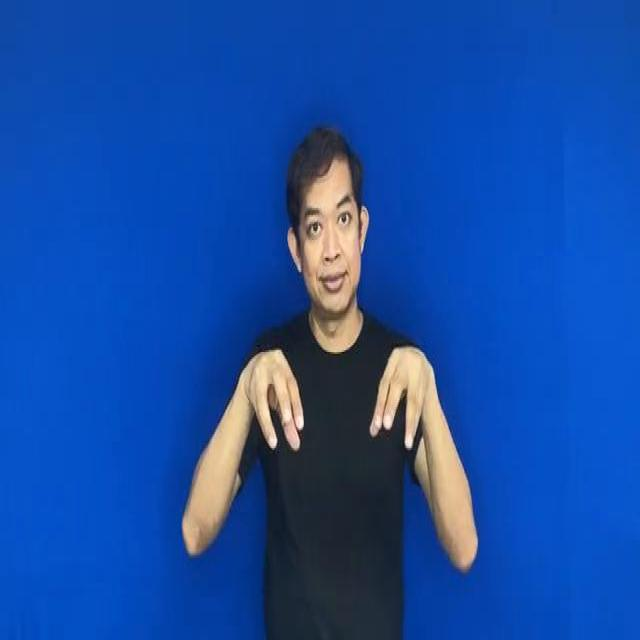egg: (224, 318, 438, 465)
